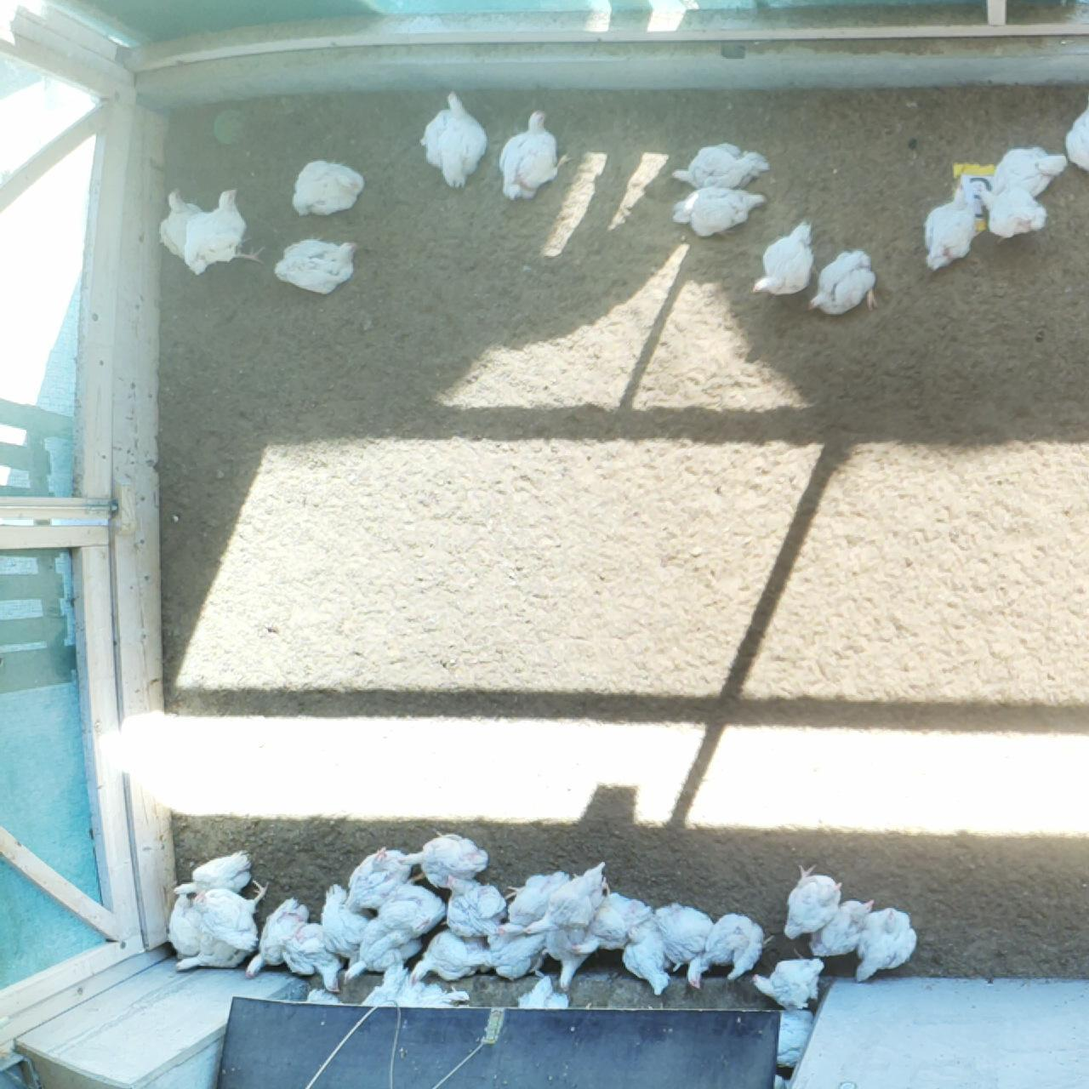chicken: (419, 89, 490, 191), (182, 188, 262, 276), (398, 829, 491, 902), (498, 109, 570, 202), (522, 861, 608, 937), (338, 843, 426, 917), (191, 875, 271, 956), (572, 885, 657, 958), (244, 894, 312, 982), (671, 184, 770, 242), (671, 139, 769, 196), (317, 881, 375, 977), (656, 900, 716, 992), (342, 916, 422, 983), (853, 906, 919, 987), (411, 924, 492, 989), (805, 249, 879, 320), (921, 184, 979, 273), (496, 869, 572, 936), (273, 235, 357, 295), (752, 220, 817, 297), (991, 141, 1073, 201), (278, 920, 345, 993), (784, 862, 845, 942), (748, 949, 825, 1011), (704, 914, 774, 982), (975, 183, 1050, 246), (809, 895, 880, 961), (291, 157, 367, 217), (173, 847, 257, 899), (622, 915, 674, 999), (477, 922, 547, 983), (361, 963, 453, 1008), (442, 872, 507, 934), (540, 924, 594, 993), (374, 885, 445, 937), (158, 186, 203, 265), (173, 927, 249, 973), (773, 1005, 818, 1071), (165, 894, 204, 960), (1063, 102, 1089, 174), (515, 976, 567, 1011)
